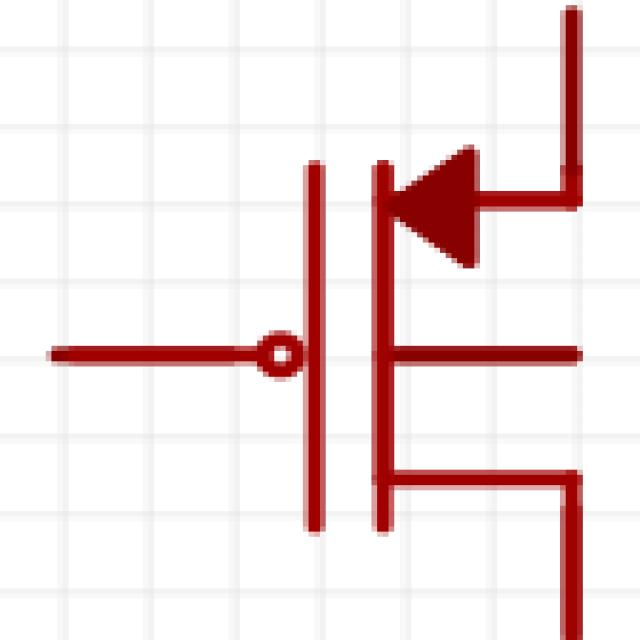pmos: (89, 62, 640, 640)
